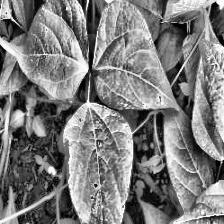ALS: (46, 99, 146, 224), (91, 0, 179, 118), (6, 0, 88, 106)
